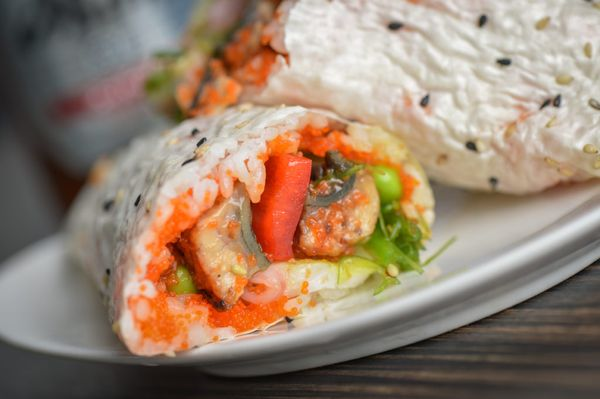soup: (86, 103, 437, 358)
